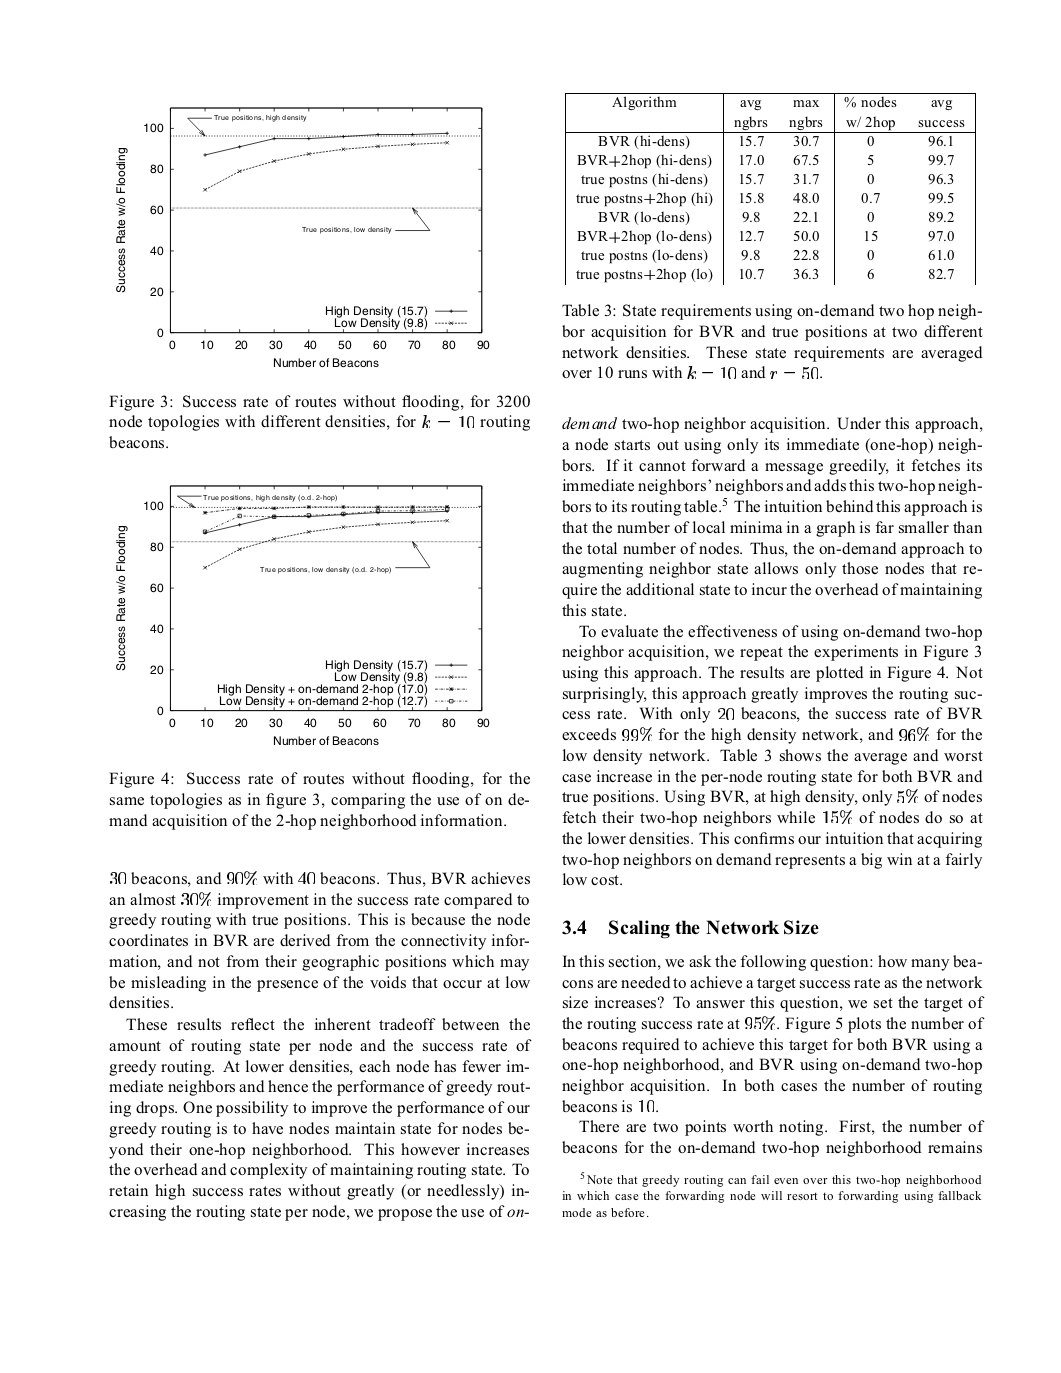Table: (565, 92, 975, 285)
figure: (116, 107, 489, 367), (116, 485, 489, 744)
